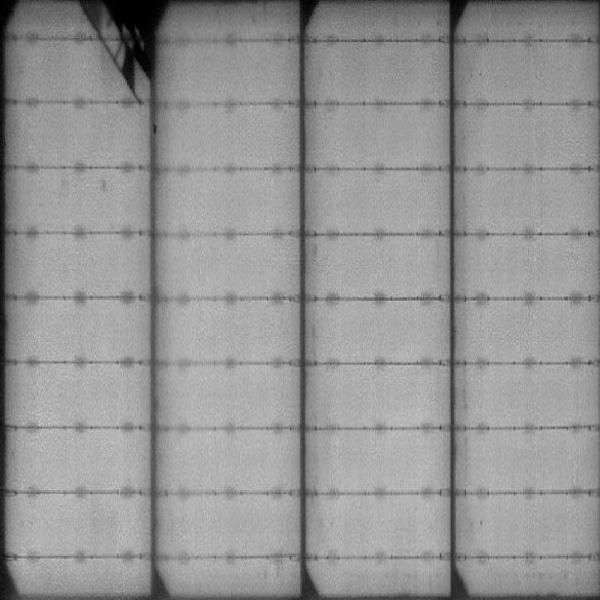broken: (75, 1, 154, 103)
